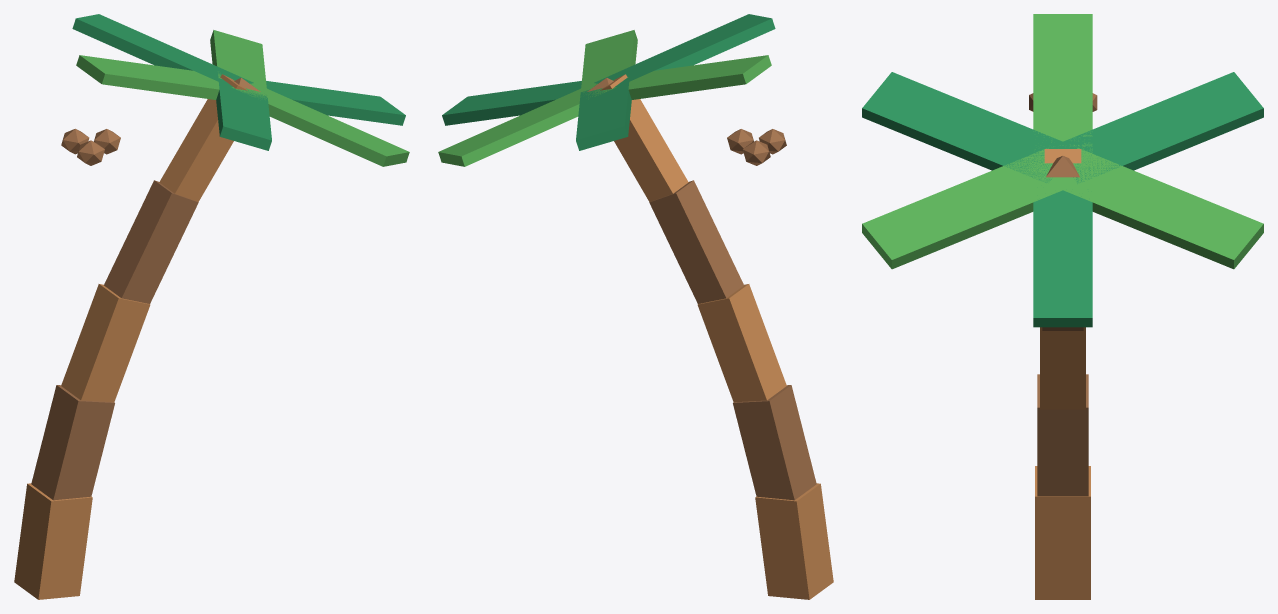
File: tree_coconut.glb
3 renders of one model, left to right at view 1: azimuth 30°, elevation 25°; view 2: azimuth 150°, elevation 25°; view 3: azimuth 270°, elevation 25°, orthographic. The views are drawn at different scales.
Visible parts, largest first — view 1: tree_coconut; view 2: tree_coconut; view 3: tree_coconut.
Part boxes in pixels (x1,y1,x2,y2): tree_coconut: [14, 14, 409, 599]; tree_coconut: [438, 14, 833, 599]; tree_coconut: [862, 14, 1263, 599].
Bounding box in the file's own units: 0.417 × 0.561 × 0.3404.
